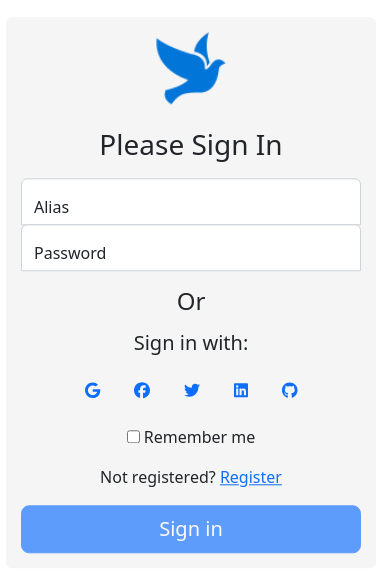
Test: Login Component › disabled the sign in button if either field is cleared
The image size is (383, 587).
Type "a" into the field labelled "Alias" at (191, 201), box [21,178,361,225]
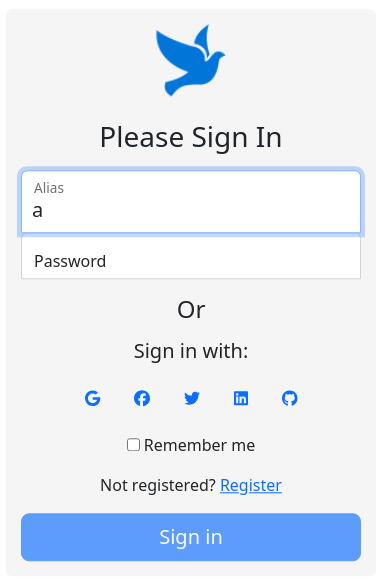
Type "b" into the password field labelled "Password" at (191, 255), box [21,232,361,279]
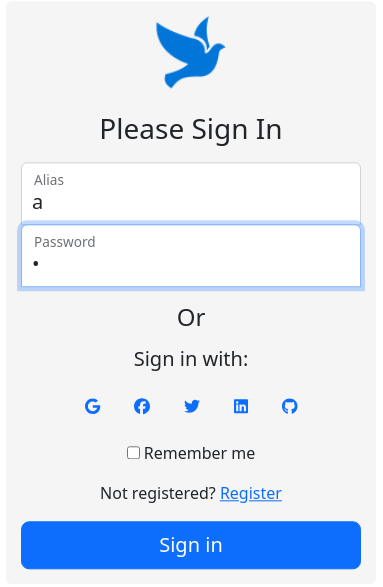
expect the button "Sign in" is enabled: met, box [21,522,361,570]
Clear the field labelled "Alias" at (191, 193), box [21,162,361,225]
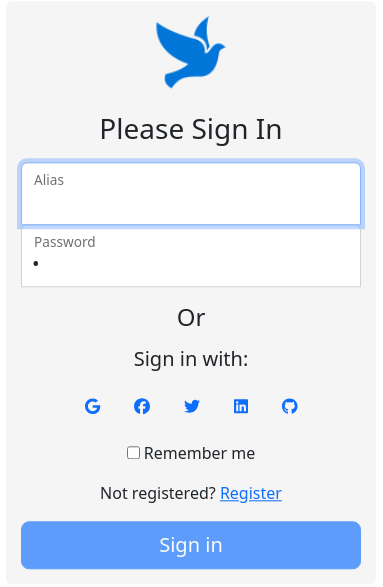
expect the button "Sign in" is disabled: met, box [21,522,361,570]
Type "g" into the field labelled "Alias" at (191, 193), box [21,162,361,225]
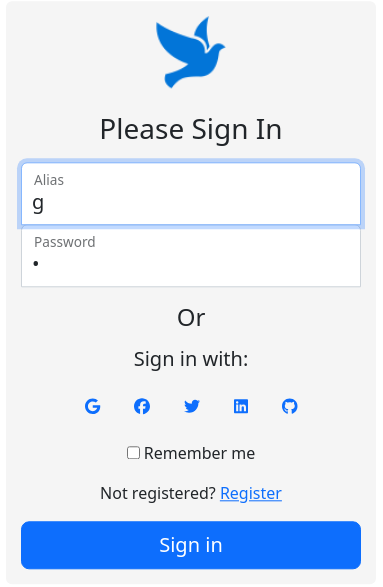
expect the button "Sign in" is enabled: met, box [21,522,361,570]
Clear the password field labelled "Password" at (191, 255), box [21,224,361,287]
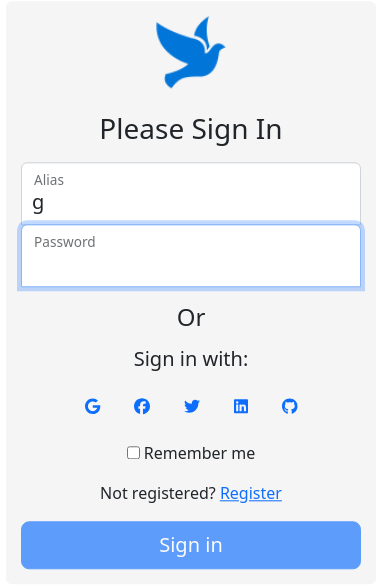
expect the button "Sign in" is disabled: met, box [21,522,361,570]
